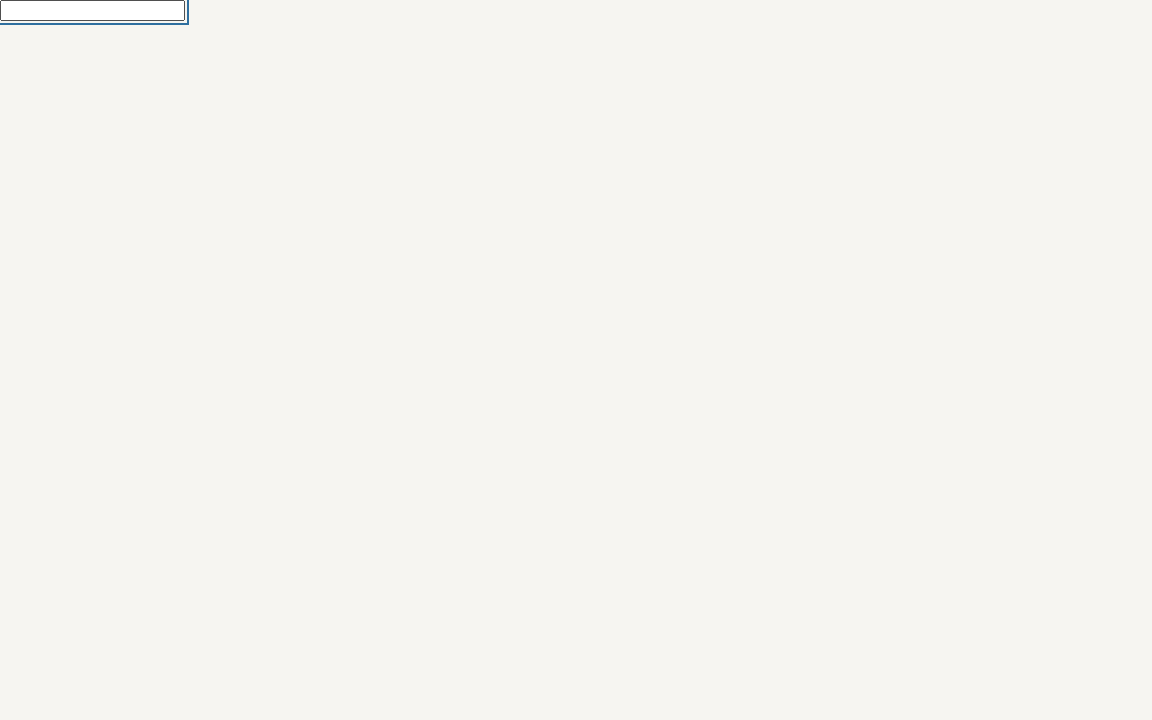
Test case: command palette › shows a search failure inline and keeps the commands
The width and height of the screenshot is (1152, 720).
Step 1. Press k in the field named "other", box x1=0 y1=0 x2=185 y2=21
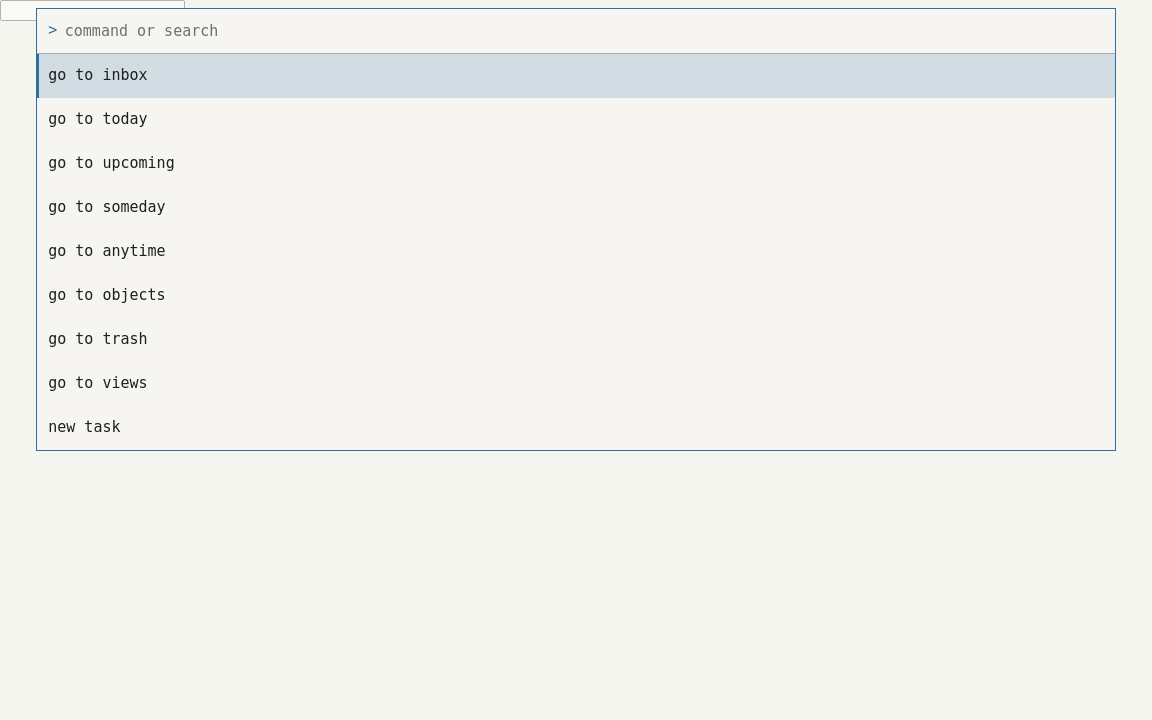
Step 2. Type "new" into the dropdown named "palette" → {"x": 584, "y": 30}, box x1=65 y1=8 x2=1104 y2=52
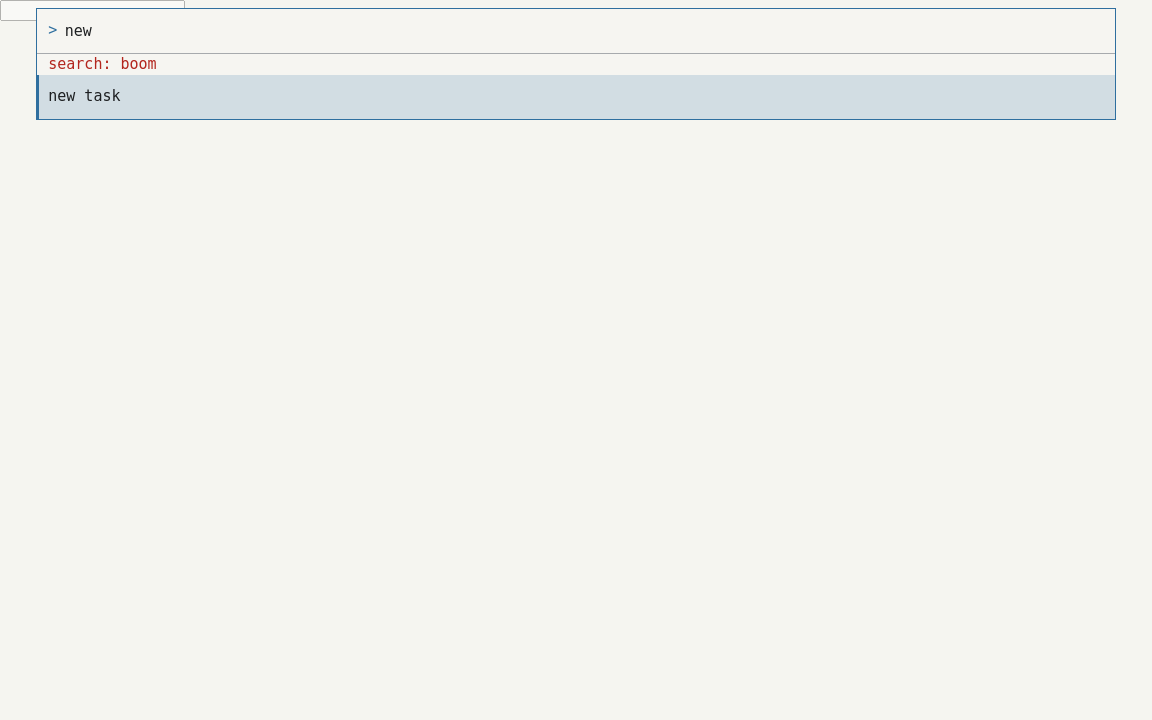
Result: the message reads "search: boom" at x1=48 y1=54 x2=157 y2=72
Result: the options read "new task", in this order at x1=37 y1=74 x2=1115 y2=118
